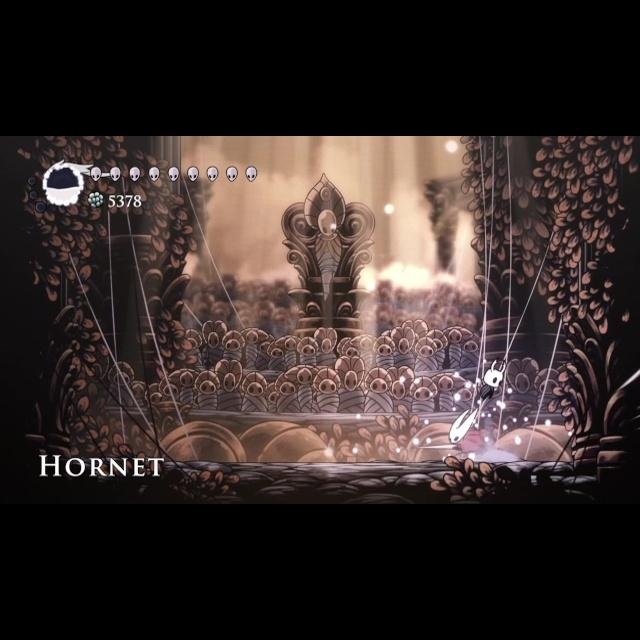Enemy: (413, 408, 492, 459)
Player: (476, 356, 510, 406)
